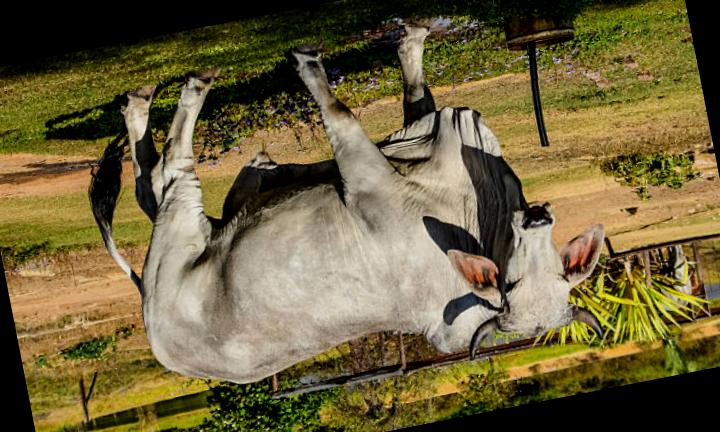Brahman: (89, 22, 603, 383)
